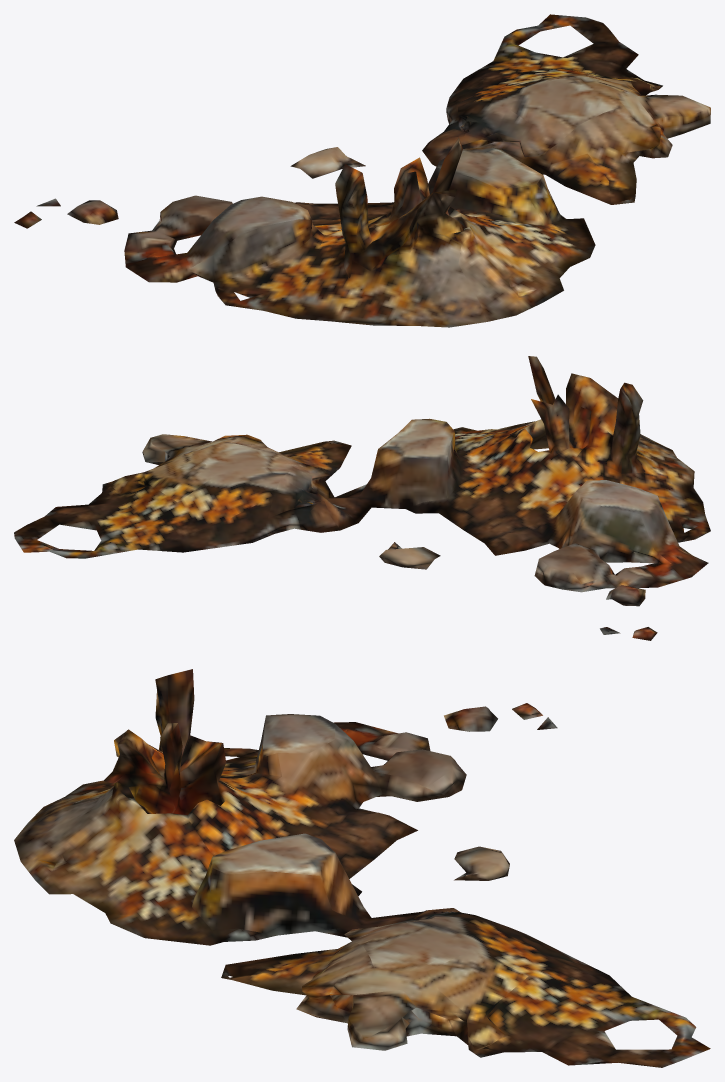
The model's file is FallDecor_BossRoom_LeafPatchB.fbx.
The picture shows the model from 3 angles, top to bottom: view 1: azimuth 30°, elevation 25°; view 2: azimuth 150°, elevation 25°; view 3: azimuth 270°, elevation 25°; orthographic projection. The views are drawn at different scales.
Visible parts, largest first — view 1: FallDecor_BossRoom_LeafPatchB_Mesh; view 2: FallDecor_BossRoom_LeafPatchB_Mesh; view 3: FallDecor_BossRoom_LeafPatchB_Mesh.
Part boxes in pixels (x1,y1,x2,y2): FallDecor_BossRoom_LeafPatchB_Mesh: [14, 14, 710, 327]; FallDecor_BossRoom_LeafPatchB_Mesh: [14, 356, 710, 640]; FallDecor_BossRoom_LeafPatchB_Mesh: [14, 669, 710, 1067].
Size of the model in its own units: 6 by 1.17 by 4.88.
1 material, 1 textured.
